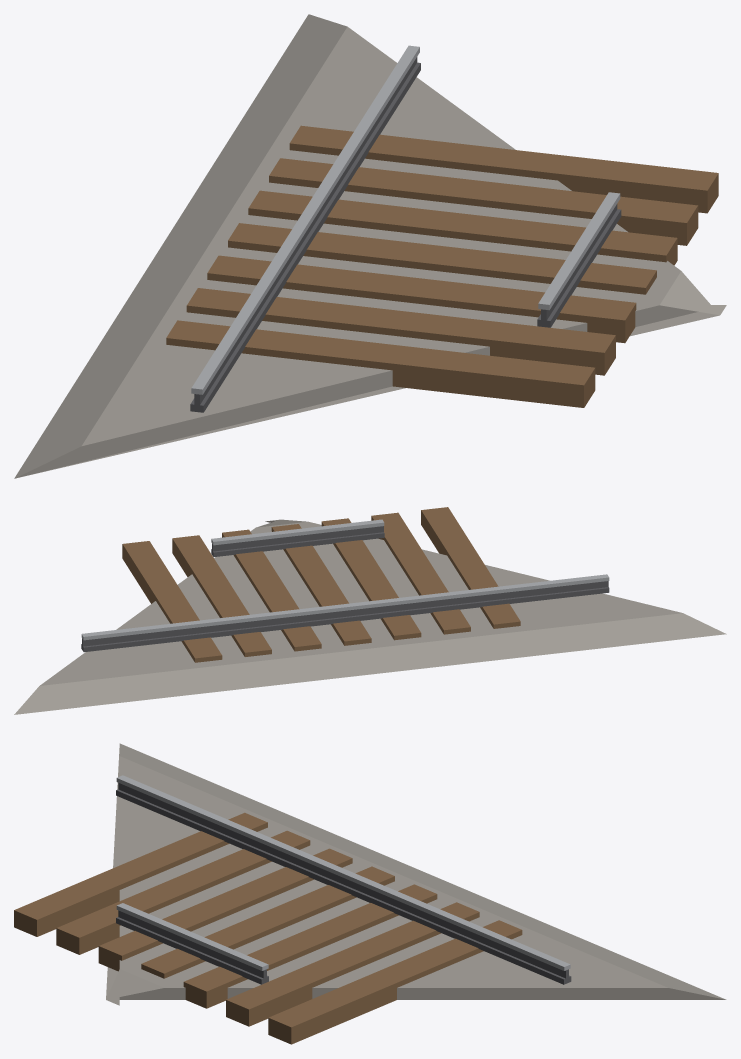
File: SM_Rail_Diagonal.glb
The picture shows the model from 3 angles, top to bottom: view 1: azimuth 30°, elevation 25°; view 2: azimuth 150°, elevation 25°; view 3: azimuth 270°, elevation 25°; orthographic projection. The views are drawn at different scales.
Visible parts, largest first — view 1: SM_Rail_Diagonal; view 2: SM_Rail_Diagonal; view 3: SM_Rail_Diagonal.
Boxes of the visible parts, bbox=[...] form: SM_Rail_Diagonal: bbox=[14, 14, 726, 478]; SM_Rail_Diagonal: bbox=[14, 507, 726, 714]; SM_Rail_Diagonal: bbox=[14, 743, 726, 1044].
Bounding box in the file's own units: 4.81 × 0.254 × 4.81.
